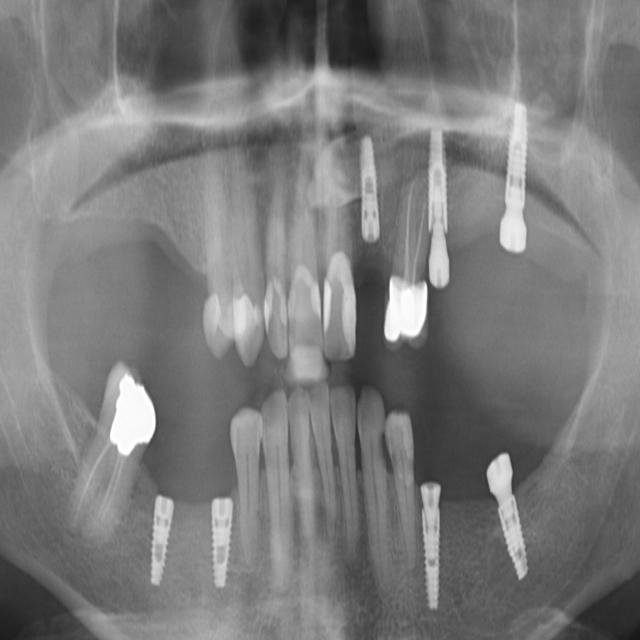infected-teeth: (69, 360, 156, 562), (384, 167, 433, 351)
